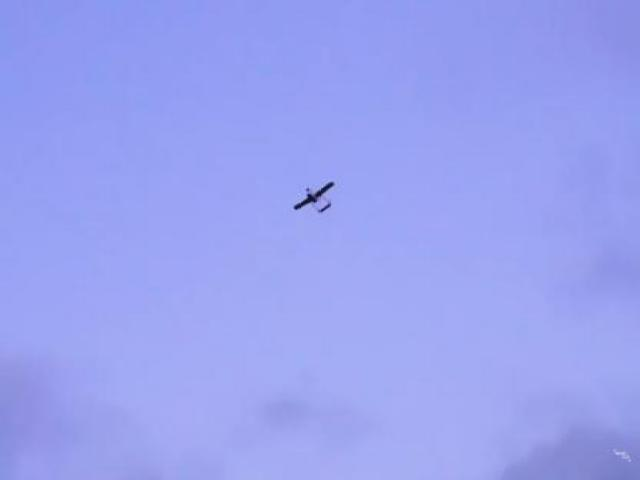uav: (293, 179, 336, 214)
